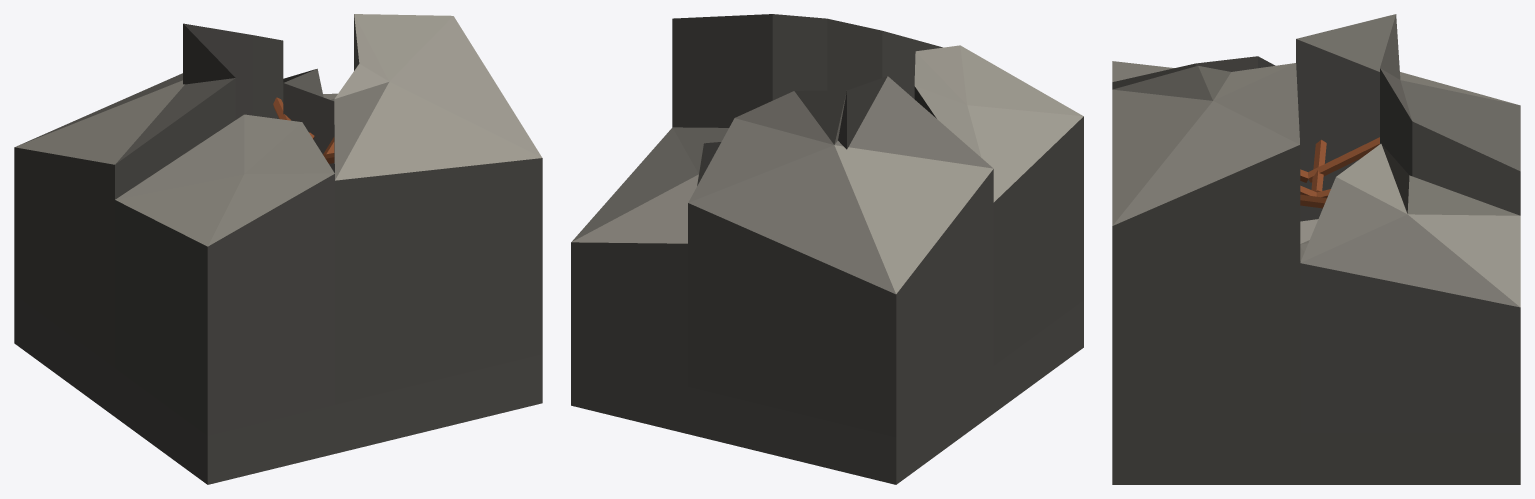
File: rubble_slab.fbx
The picture shows the model from 3 angles, left to right: view 1: azimuth 30°, elevation 25°; view 2: azimuth 150°, elevation 25°; view 3: azimuth 270°, elevation 25°; orthographic projection. The views are drawn at different scales.
Parts seen in each view (by area): view 1: rubble_slab; view 2: rubble_slab; view 3: rubble_slab.
Part boxes in pixels (box(x1,y1,x2,y2)): rubble_slab: box(14, 14, 542, 484); rubble_slab: box(571, 14, 1083, 484); rubble_slab: box(1112, 14, 1520, 484).
Size of the model in its own units: 1 by 1 by 1.
